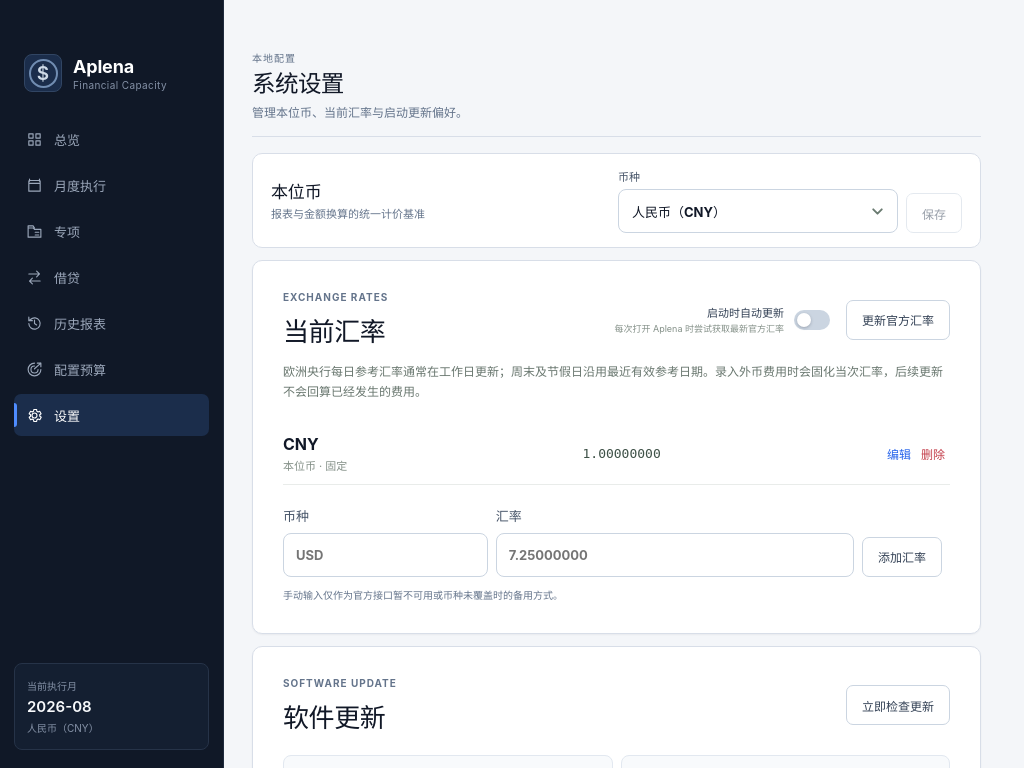
planning workflows › imports every supported foreign currency on a fresh database
This screenshot has width=1024, height=768.
Click the button "更新官方汇率" at (898, 320), box [846,300,950,340]
(page scrolled)
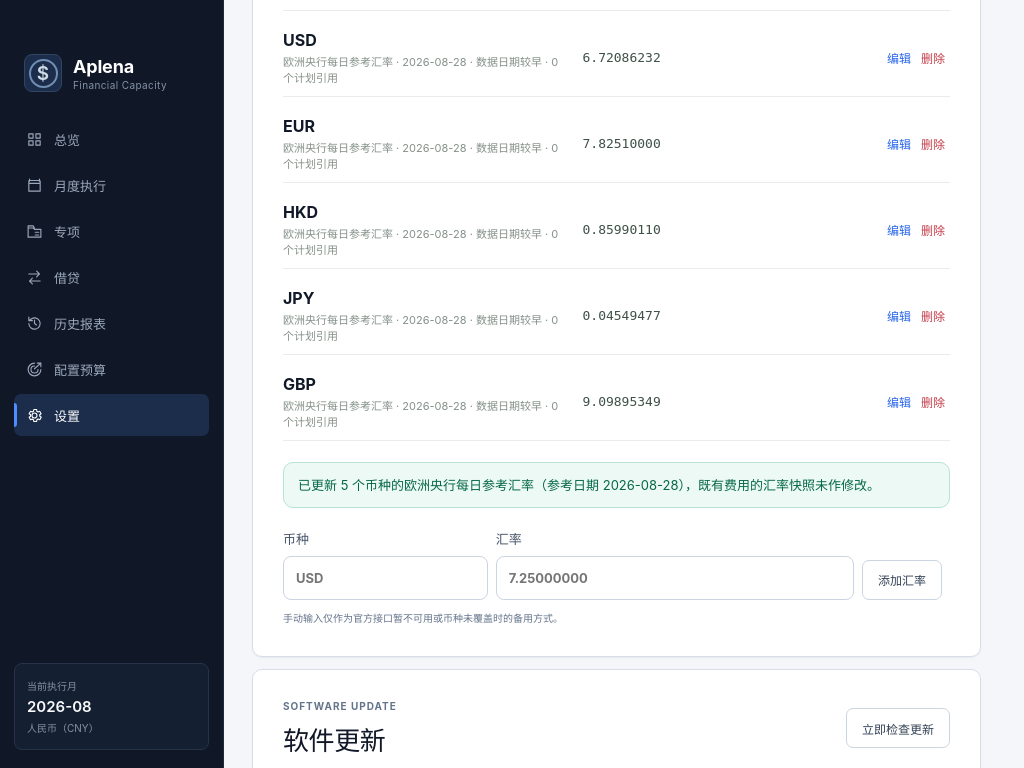
Expected: the text "已更新 5 个币种的欧洲央行每日参考汇率（参考日期 2026-08-28），既有费用的汇率快照未作修改。" is shown, [283,462,950,508]
Expected: the text "USD" is shown, [283,30,317,50]
Expected: the text "EUR" is shown, [283,116,315,136]
